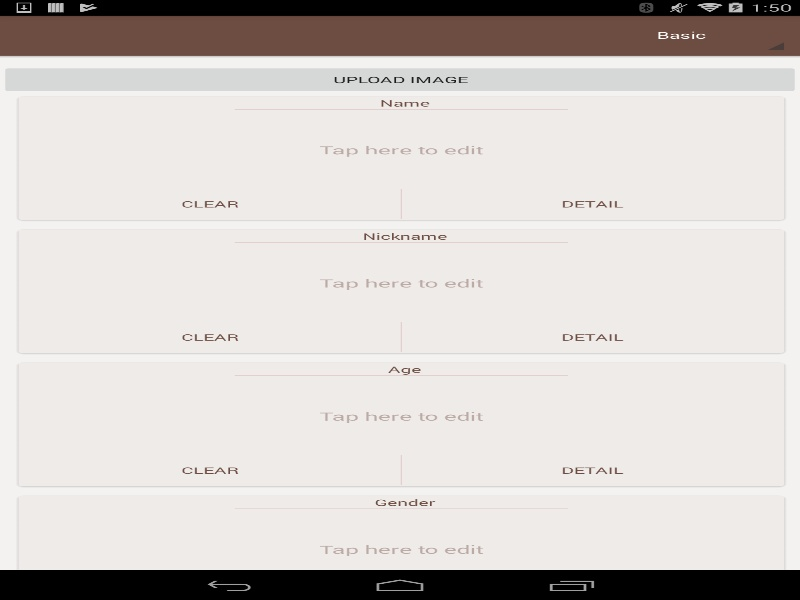Button: (0, 64, 800, 94), (401, 189, 782, 219), (401, 322, 782, 352), (401, 455, 782, 485), (20, 189, 400, 219), (20, 322, 400, 352), (20, 455, 400, 485)
Input: (26, 110, 776, 189), (26, 244, 776, 322), (26, 377, 776, 455), (26, 510, 776, 588)
